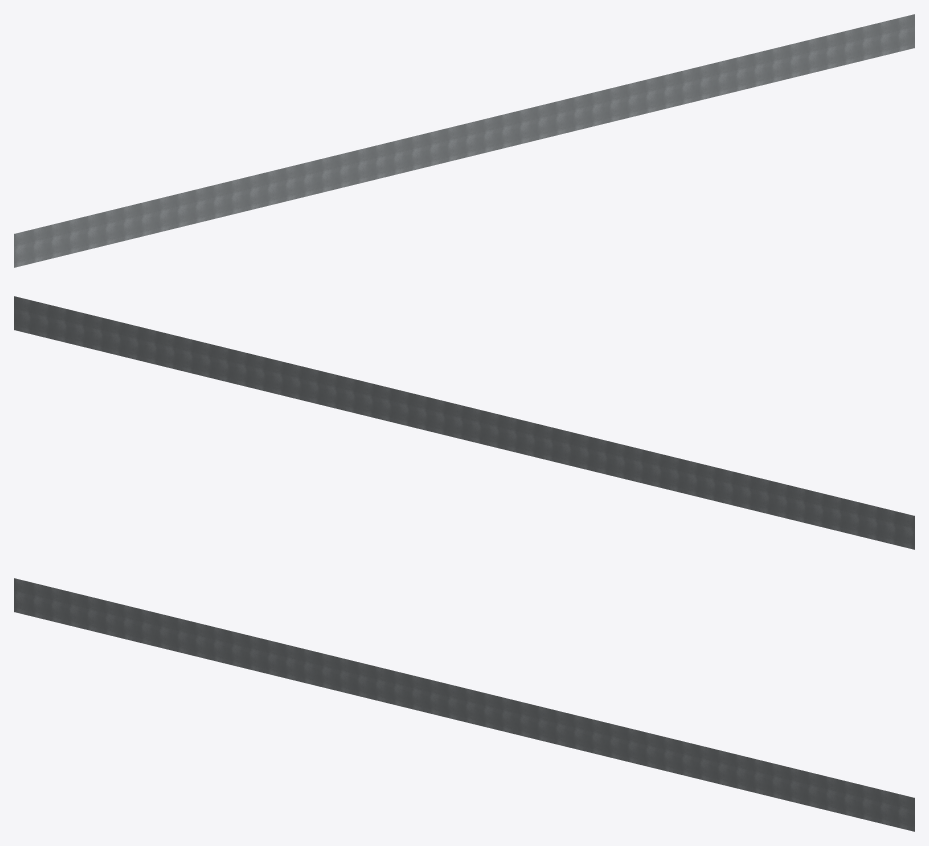
File: Road_20acdffb-81f3-4ae3-9c6f-cdbfe0db69fc_6.obj
The picture shows the model from 3 angles, top to bottom: view 1: azimuth 30°, elevation 25°; view 2: azimuth 150°, elevation 25°; view 3: azimuth 330°, elevation 25°; orthographic projection.
Visible parts, largest first — view 1: g1; view 2: g1; view 3: g1.
Boxes of the visible parts, x1,y1,x2,y2 form: g1: (14,14,914,267); g1: (14,296,914,549); g1: (14,578,914,831).
Size of the model in its own units: 500 by 18 by 0.
